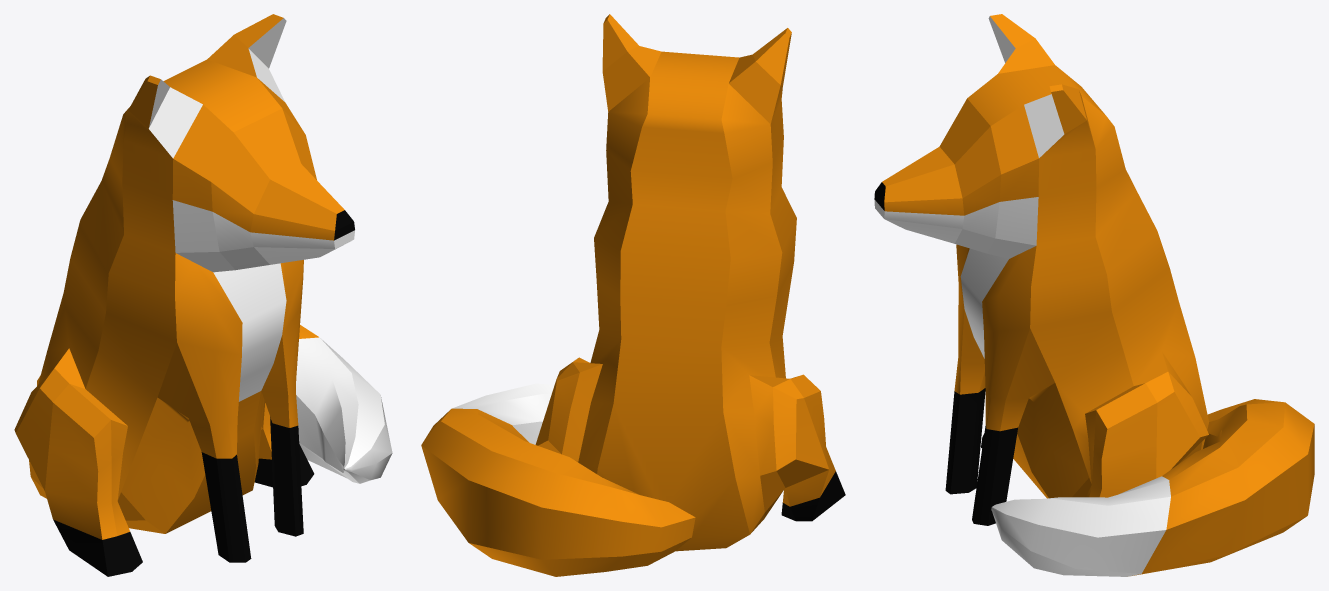
File: low_poly_fox.glb
3 views of the same model, side by side, from view 1: azimuth 30°, elevation 25°; view 2: azimuth 150°, elevation 25°; view 3: azimuth 270°, elevation 25° (orthographic). The views are drawn at different scales.
Visible parts, largest first — view 1: Fox (×3); view 2: Fox (×3); view 3: Fox (×3).
Boxes of the visible parts, x1,y1,x2,y2 form: Fox (×3): [14, 14, 392, 576]; Fox (×3): [421, 14, 845, 576]; Fox (×3): [874, 14, 1314, 576].
Size of the model in its own units: 1.56 by 2 by 1.78.
Materials: 3 (3 with a texture image).
